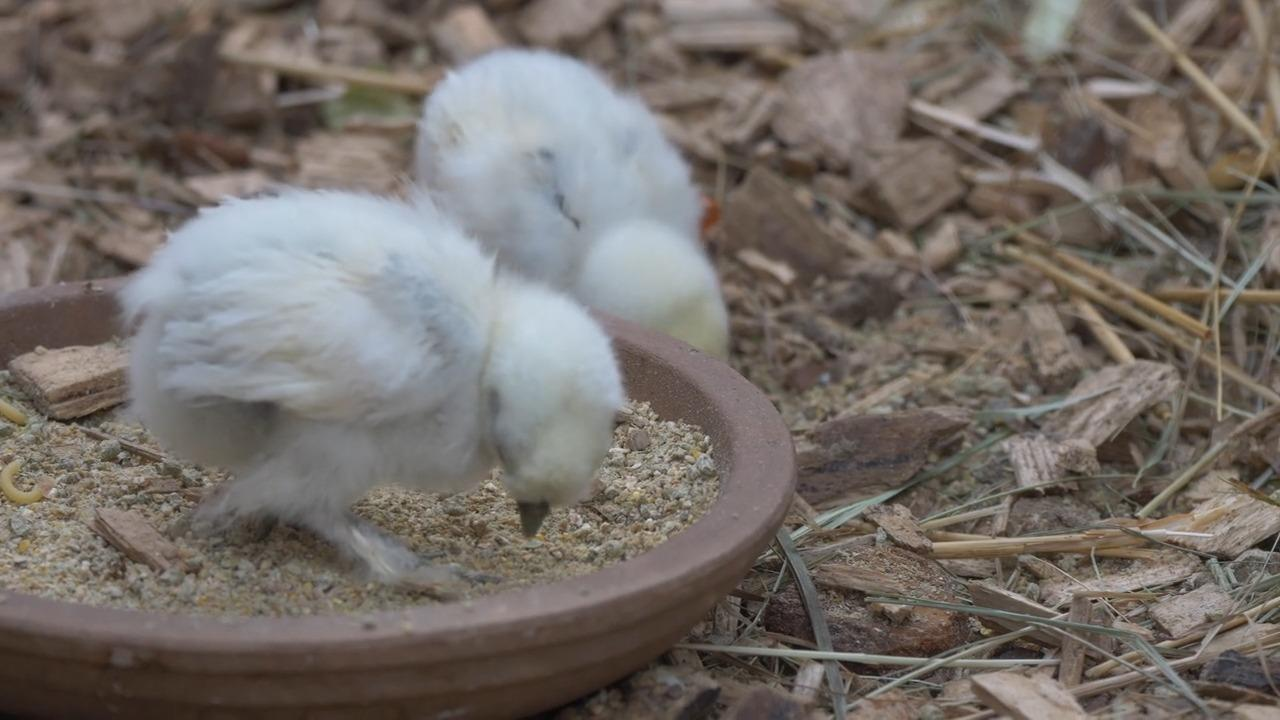AbNormal: (142, 202, 622, 590)
